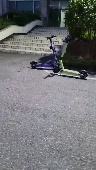beam: (28, 34, 61, 71)
gcooter: (51, 38, 88, 80)
